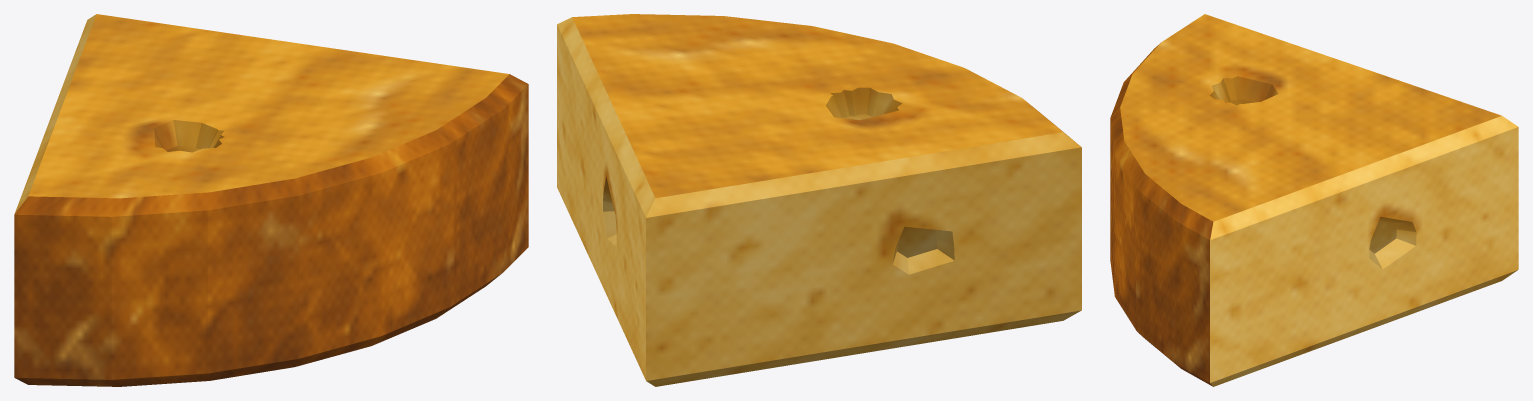
Rendered from Queijo.glb.
3 views of the same model, side by side, from view 1: azimuth 30°, elevation 25°; view 2: azimuth 150°, elevation 25°; view 3: azimuth 270°, elevation 25° (orthographic). The views are drawn at different scales.
Parts seen in each view (by area): view 1: Casca curva, Topo, Faces cortadas; view 2: Faces cortadas, Topo; view 3: Faces cortadas, Topo, Casca curva.
Part boxes in pixels (<box>): Casca curva: <box>14,74,528,386</box>; Topo: <box>28,14,509,198</box>; Faces cortadas: <box>14,14,96,213</box>; Faces cortadas: <box>557,17,1081,386</box>; Topo: <box>572,14,1062,198</box>; Faces cortadas: <box>1210,116,1518,386</box>; Topo: <box>1120,14,1501,221</box>; Casca curva: <box>1110,43,1213,386</box>.
Bounding box in the file's own units: 0.2134 × 0.074 × 0.1658.
Materials: 1 (1 with a texture image).
